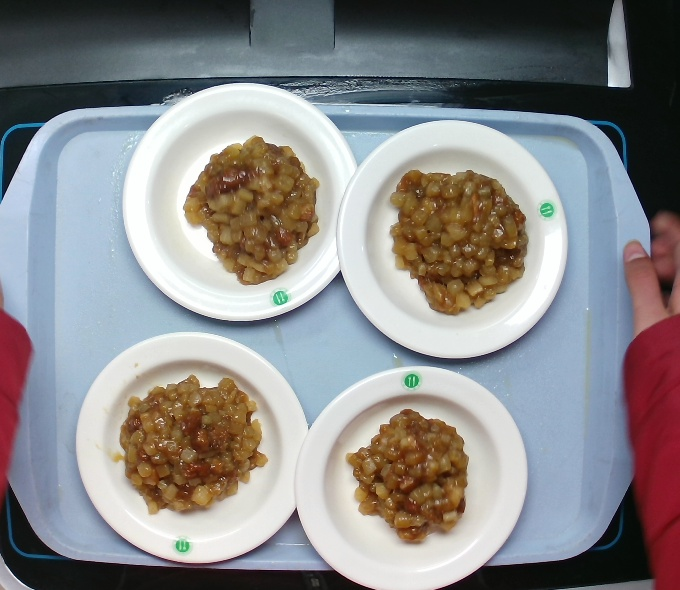wcq-RouYuan: (380, 154, 538, 316), (176, 126, 332, 281), (121, 362, 267, 519), (333, 400, 487, 544)
